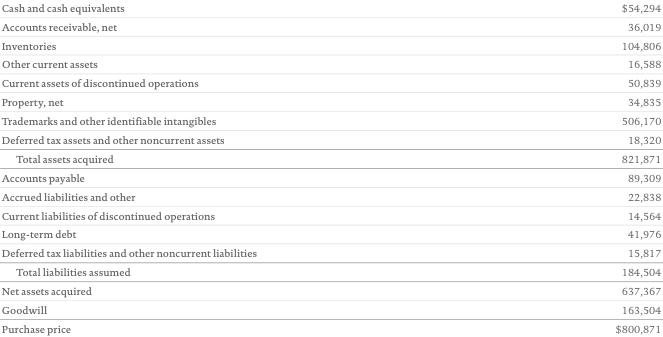table: (0, 0, 660, 334)
table column: (0, 0, 435, 334), (435, 0, 660, 334)
table row: (0, 16, 660, 35), (0, 35, 660, 54), (0, 54, 660, 73), (0, 73, 660, 92), (0, 92, 660, 111), (0, 129, 660, 148), (0, 148, 660, 167), (0, 167, 660, 186), (0, 186, 660, 205), (0, 205, 660, 224), (0, 224, 660, 243), (0, 243, 660, 262), (0, 262, 660, 281), (0, 299, 660, 318), (0, 111, 660, 129), (0, 281, 660, 299), (0, 0, 660, 16), (0, 318, 660, 334)
